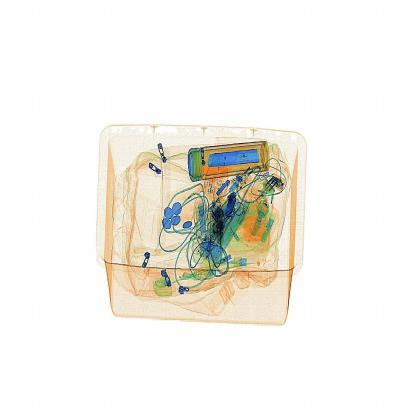pliers: (202, 146, 267, 166)
